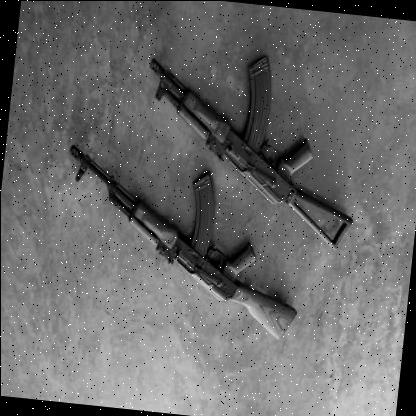rifle: (46, 126, 314, 349), (129, 37, 367, 255)
